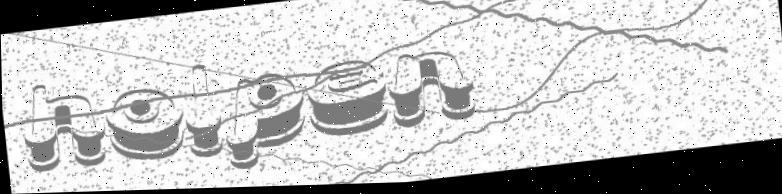e: (304, 59, 389, 139)
h: (19, 78, 106, 172)
l: (180, 63, 224, 160)
n: (385, 50, 476, 132)
o: (103, 86, 185, 164)
p: (220, 72, 309, 172)
